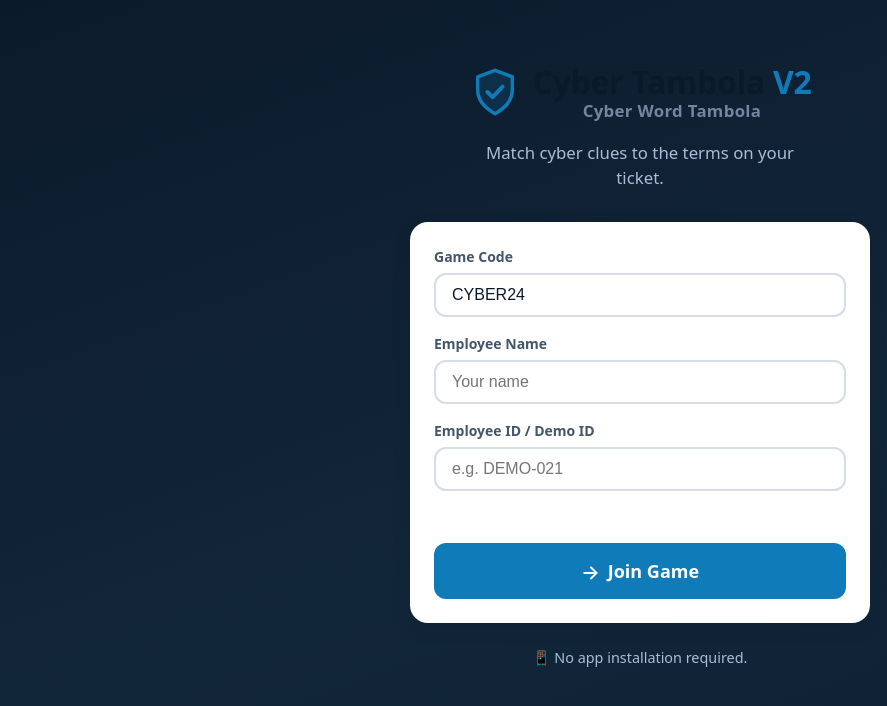
Test: PlayerJoin › shows a validation message and does not navigate when the name is empty
In the field labelled "Employee ID / Demo ID": (640, 469) left=434, top=447, right=846, bottom=491, type "EMP-1"
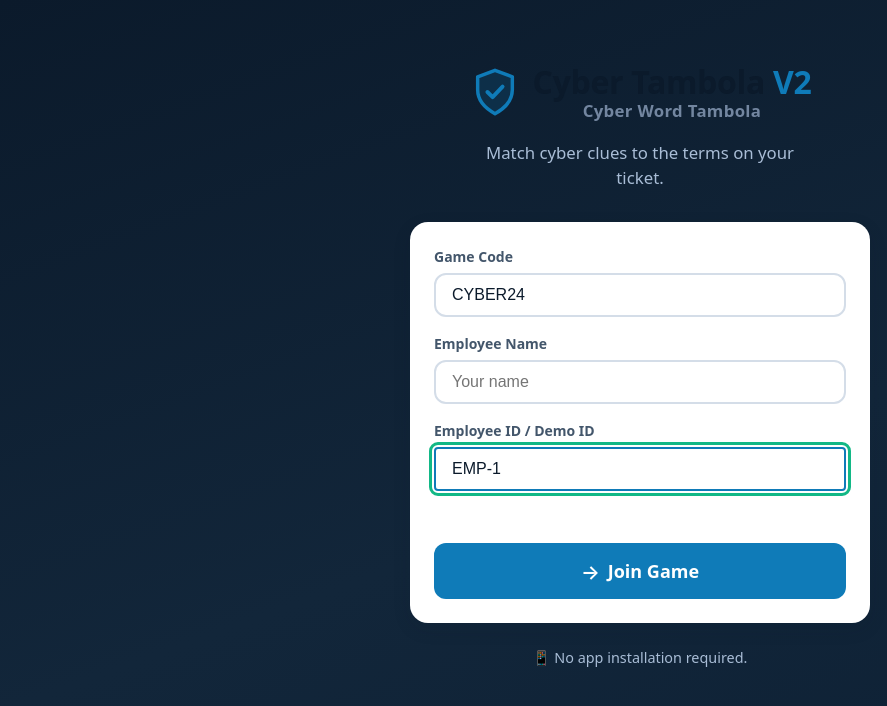
Click the button "→ Join Game": (640, 571) left=434, top=543, right=846, bottom=599
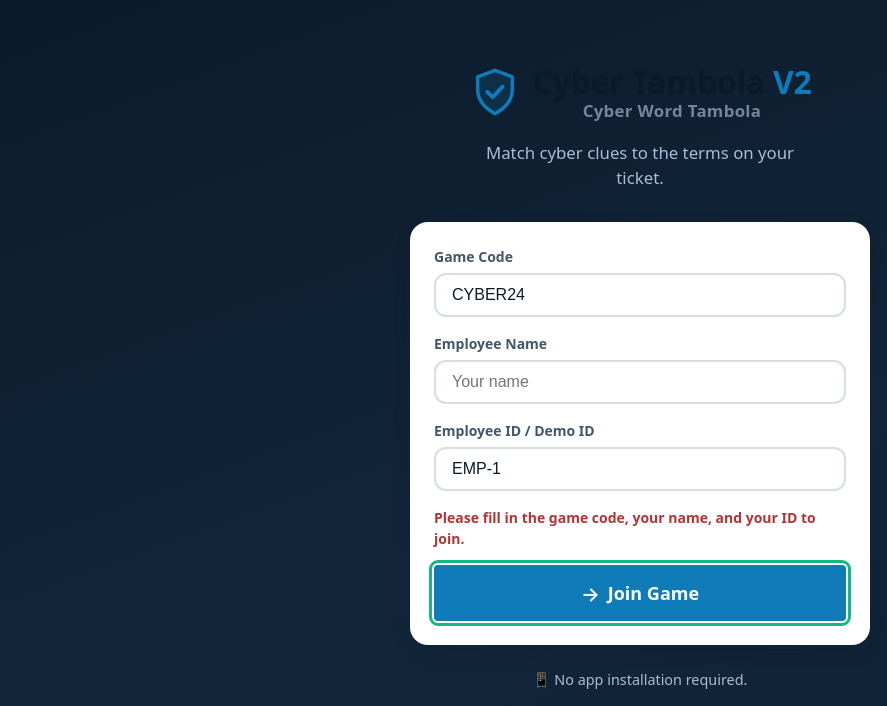
Expected: the message shows "Please fill in", left=434, top=508, right=816, bottom=548
